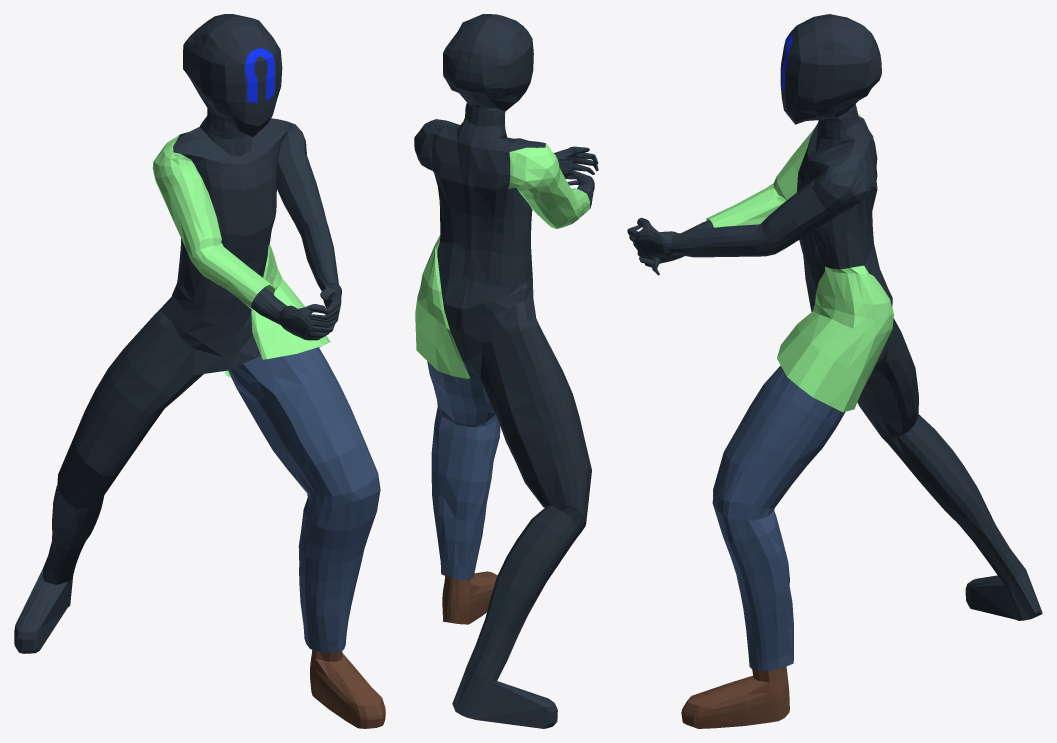
File: Mar_WR_000011.obj
The picture shows the model from 3 angles, left to right: view 1: azimuth 30°, elevation 25°; view 2: azimuth 150°, elevation 25°; view 3: azimuth 270°, elevation 25°; orthographic projection. The views are drawn at different scales.
Parts seen in each view (by area): view 1: Cube.000_Cube.001; view 2: Cube.000_Cube.001; view 3: Cube.000_Cube.001.
Boxes of the visible parts, left/top/right/bottom form: Cube.000_Cube.001: left=14, top=14, right=385, bottom=728; Cube.000_Cube.001: left=414, top=14, right=598, bottom=728; Cube.000_Cube.001: left=627, top=14, right=1042, bottom=728.
Size of the model in its own units: 1.38 by 3.73 by 2.09.
